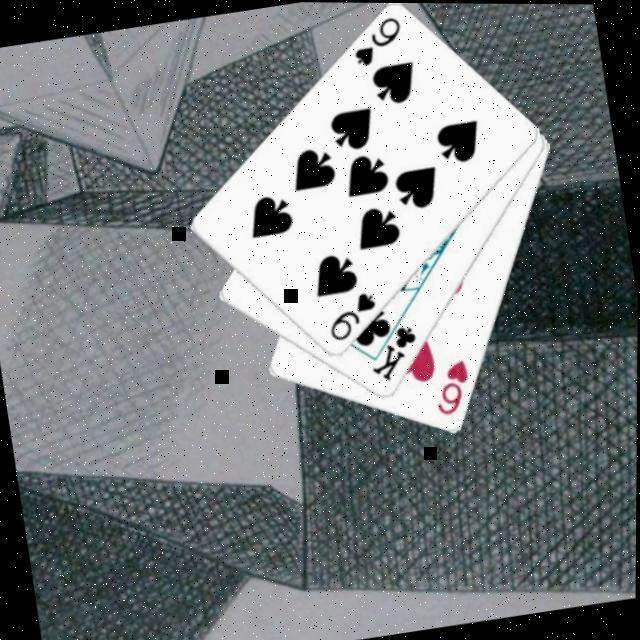6H: (430, 353, 480, 417)
9S: (324, 285, 386, 343), (348, 10, 410, 68)
KC: (363, 307, 427, 383)
